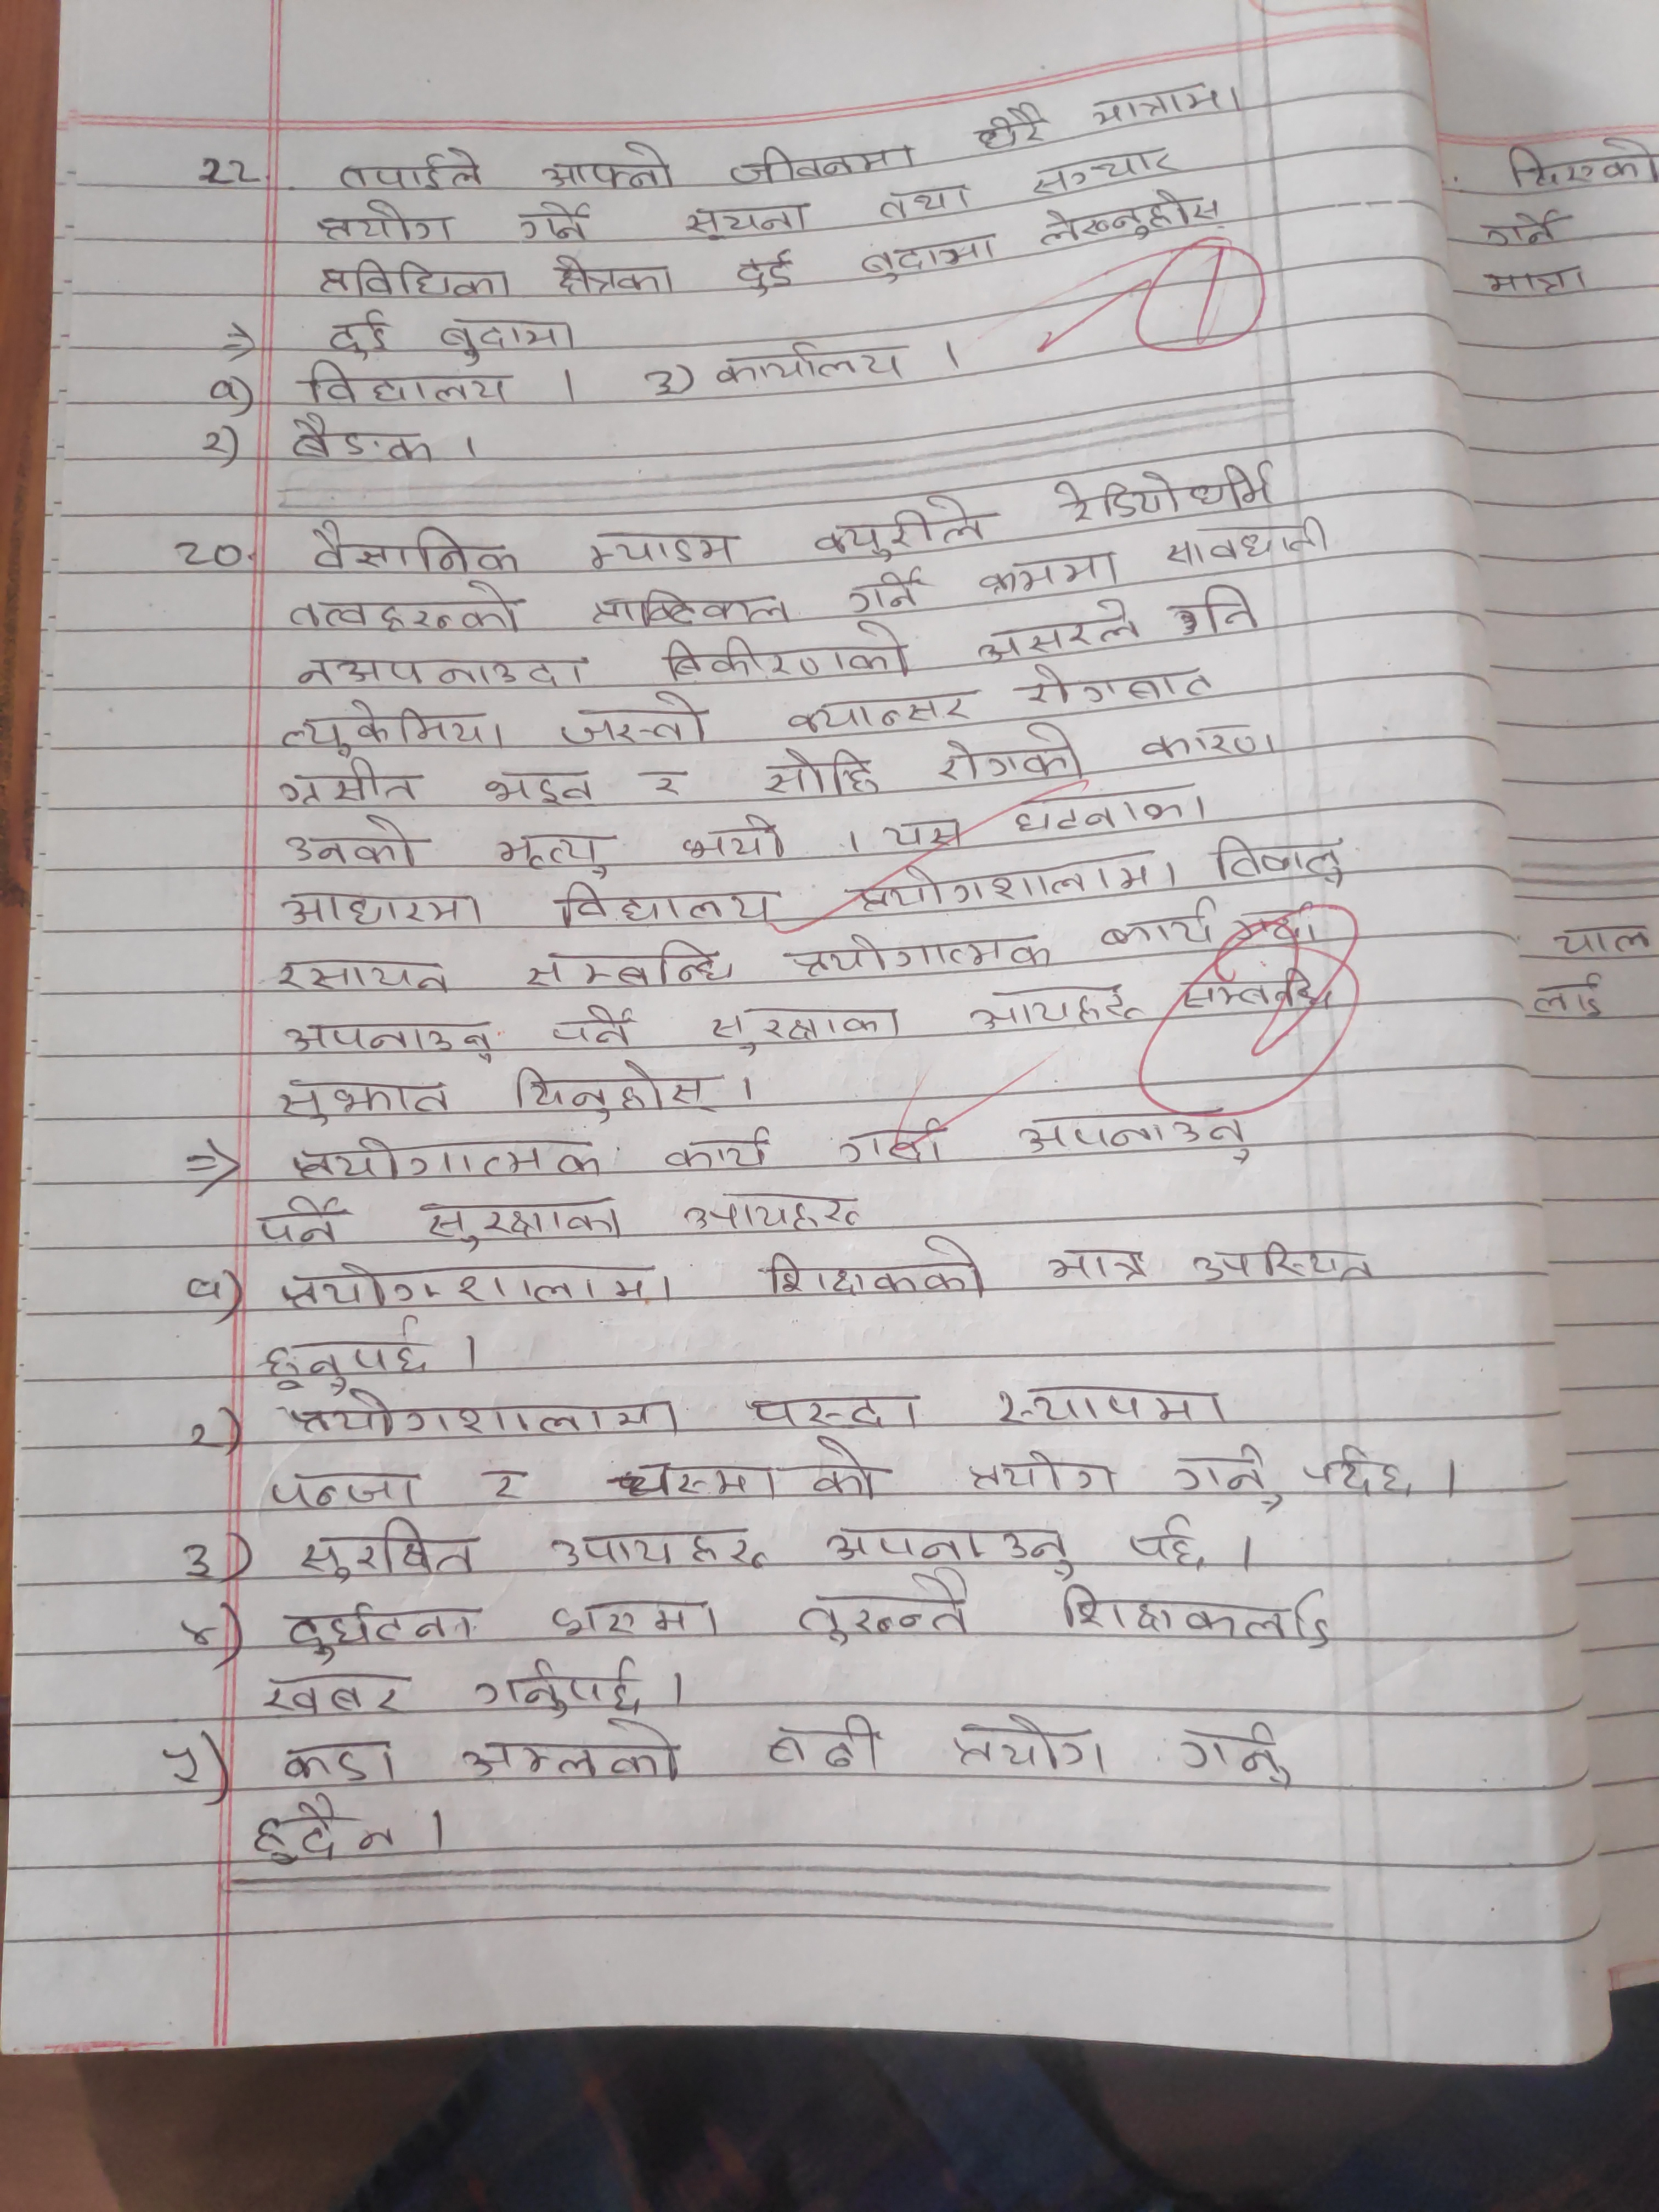text: (838, 853, 1183, 913), (1054, 1578, 1335, 1649), (277, 1263, 680, 1312), (610, 1439, 885, 1508), (284, 1132, 606, 1186), (288, 1393, 687, 1435), (457, 1719, 685, 1785), (824, 1519, 1077, 1576), (758, 1237, 988, 1299), (281, 697, 509, 759), (1016, 1106, 1253, 1165), (795, 1569, 972, 1648), (282, 580, 523, 637), (657, 627, 910, 681), (511, 1059, 725, 1122), (1051, 462, 1283, 519), (988, 1379, 1232, 1433), (775, 930, 1053, 977), (282, 1599, 483, 1663), (298, 1514, 481, 1581), (261, 1322, 439, 1392), (307, 521, 525, 577), (551, 878, 782, 930), (295, 653, 592, 693), (416, 1193, 624, 1249), (526, 939, 737, 993), (950, 1709, 1112, 1778), (474, 1656, 653, 1719), (812, 493, 985, 557), (1033, 192, 1225, 249), (547, 1524, 765, 1575), (249, 1794, 401, 1865), (971, 979, 1145, 1040), (709, 1000, 899, 1055), (275, 883, 491, 932), (281, 1017, 497, 1066), (979, 601, 1138, 667), (1012, 780, 1211, 833), (300, 364, 516, 411), (587, 582, 795, 631), (272, 1075, 457, 1127), (1021, 662, 1215, 711), (936, 721, 1089, 782), (319, 256, 514, 303), (1192, 1237, 1380, 1285), (1173, 1717, 1293, 1792), (782, 686, 979, 732), (282, 810, 432, 869), (554, 690, 708, 747), (681, 1190, 868, 1237), (748, 1388, 925, 1437), (713, 341, 915, 383), (549, 1595, 721, 1644), (291, 411, 436, 469), (335, 141, 488, 193), (1208, 827, 1347, 885), (763, 1710, 884, 1775), (964, 1447, 1121, 1496), (1028, 150, 1178, 200), (270, 759, 432, 805), (723, 145, 922, 181), (317, 199, 465, 247), (580, 529, 744, 573), (978, 550, 1119, 601), (1304, 1442, 1413, 1507), (856, 233, 1000, 282), (538, 141, 676, 192), (1086, 82, 1244, 125), (272, 958, 450, 996), (1093, 897, 1218, 951), (434, 312, 572, 361), (1166, 519, 1324, 561), (545, 251, 680, 300), (260, 1676, 415, 1717), (493, 827, 620, 878), (1178, 970, 1331, 1012), (760, 744, 878, 798), (261, 1468, 420, 1508), (676, 810, 798, 860), (272, 1740, 401, 1787), (676, 199, 816, 240), (835, 1115, 950, 1165), (1140, 721, 1274, 763), (664, 1127, 779, 1176), (1168, 580, 1258, 641), (1175, 1444, 1274, 1496), (483, 766, 598, 810), (1044, 1247, 1155, 1289), (1131, 1514, 1215, 1569), (1232, 899, 1323, 949), (253, 1198, 349, 1245), (545, 1003, 640, 1050), (326, 308, 401, 362), (512, 202, 605, 246), (870, 185, 979, 221), (974, 105, 1054, 152), (843, 570, 922, 617), (878, 817, 964, 852), (735, 249, 796, 296), (484, 1463, 540, 1503), (633, 770, 694, 799)
